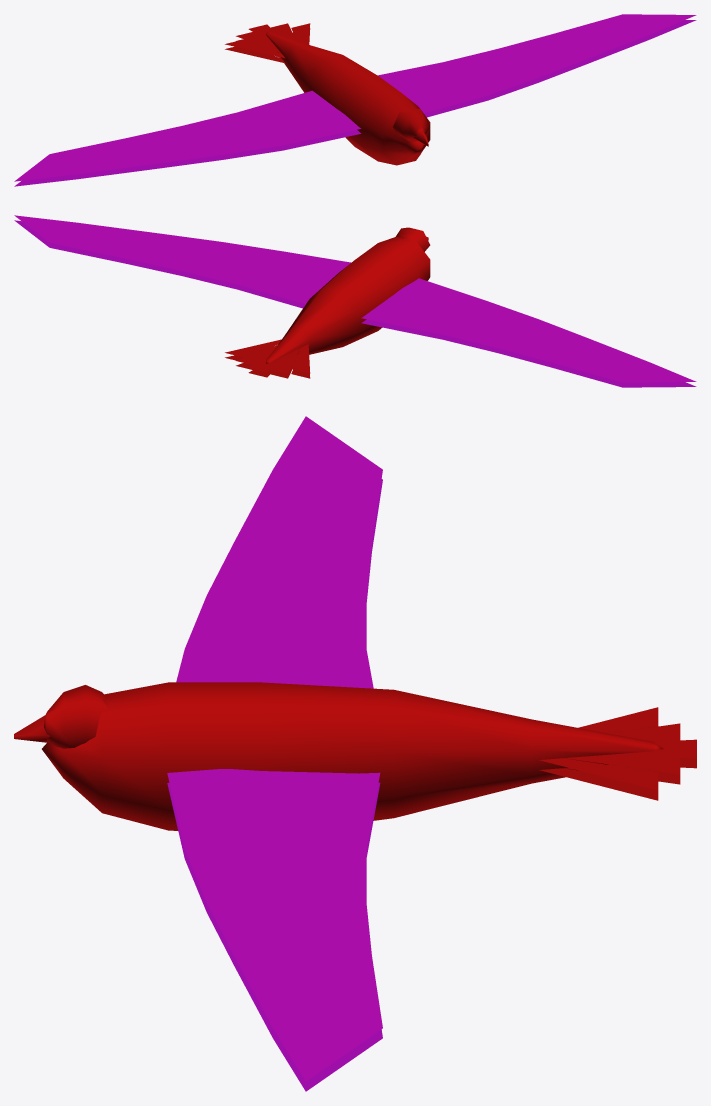
Rendered from fulmar.glb.
3 views of the same model, one above another, from view 1: azimuth 30°, elevation 25°; view 2: azimuth 150°, elevation 25°; view 3: azimuth 270°, elevation 25° (orthographic). The views are drawn at different scales.
Parts seen in each view (by area): view 1: bird; view 2: bird; view 3: bird.
Boxes of the visible parts, x1,y1,x2,y2 form: bird: [14, 14, 696, 186]; bird: [14, 215, 696, 387]; bird: [14, 416, 696, 1091].
Size of the model in its own units: 1.12 by 0.1016 by 0.4844.
